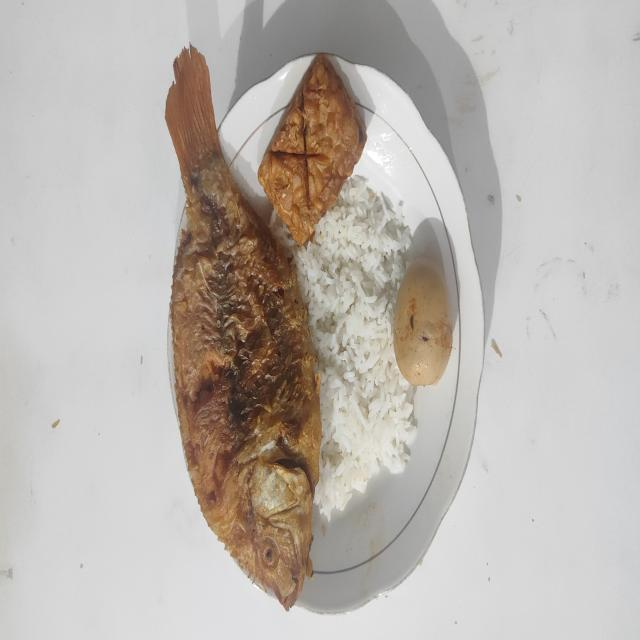ikan_mujair: (165, 45, 321, 610)
nasi_putih: (270, 175, 416, 521)
tempe_goreng: (258, 54, 366, 245)
